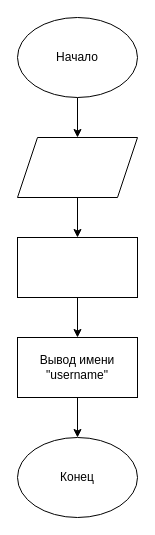
This 155x535 diagram has some shape labels left out. Here are the shapes that lost their labels. From the top down, the centre of each, then its label:
the point at 77,167: Ввод имени "username"
the point at 77,267: Вывод строки "Привет, "
